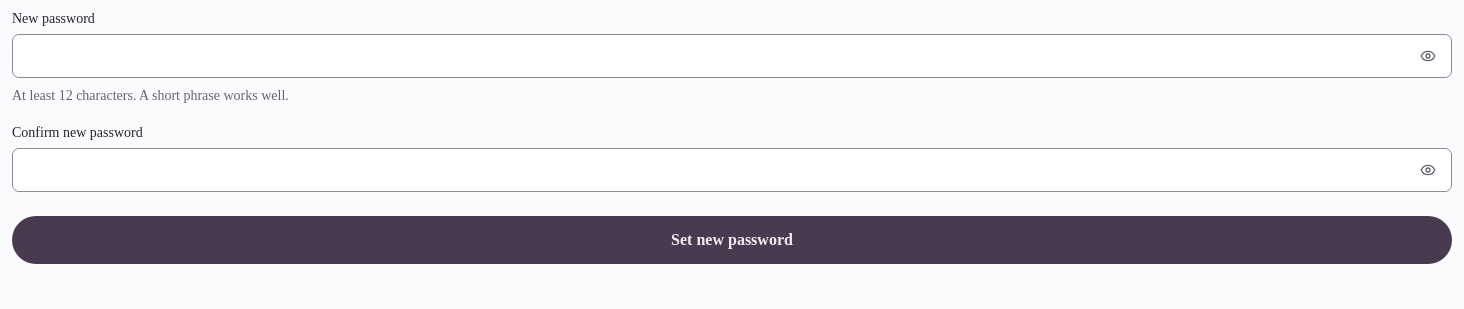
ResetPasswordForm › uses the registration rule and checks the confirmation locally
Step 1. Type "short" into the password field labelled "New password" → [732, 56], box x1=12 y1=34 x2=1452 y2=78
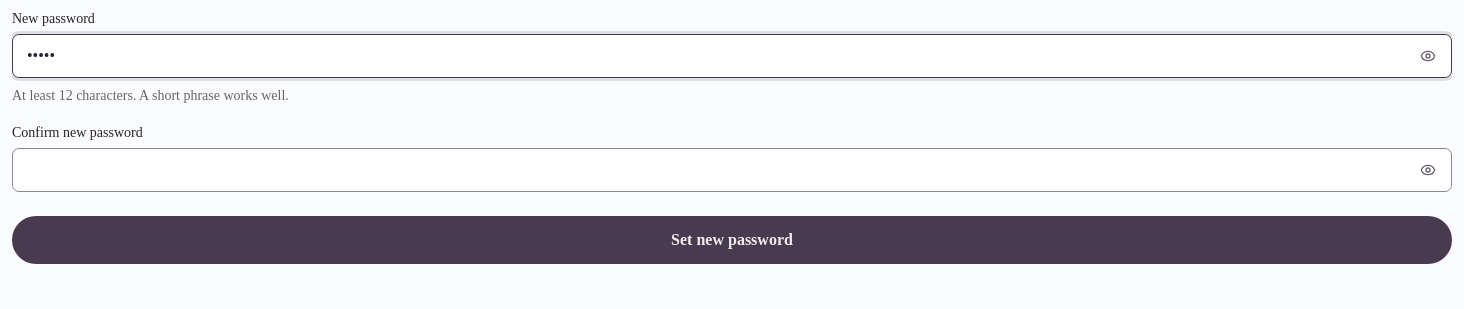
Step 2. Type "short" into the password field labelled "Confirm new password" → [732, 170], box x1=12 y1=148 x2=1452 y2=192
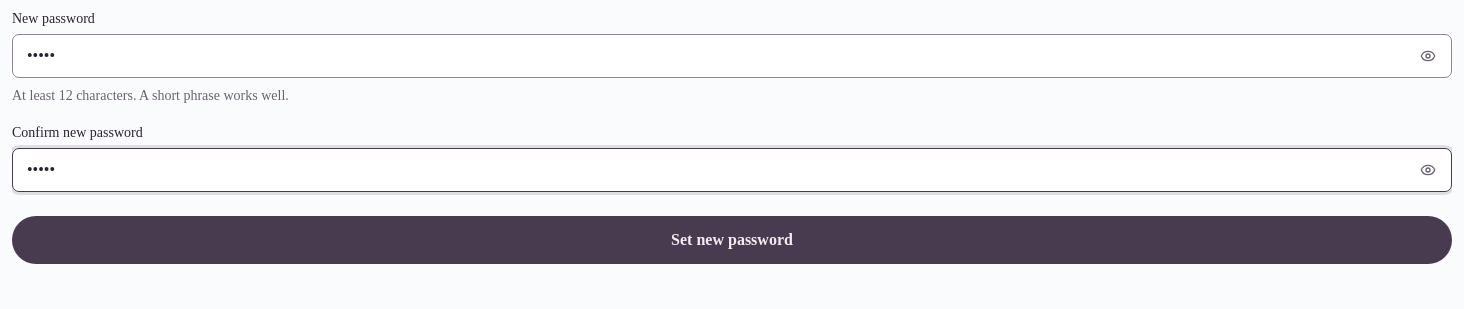
Step 3. Click the button "Set new password" → [732, 240], box x1=12 y1=216 x2=1452 y2=264
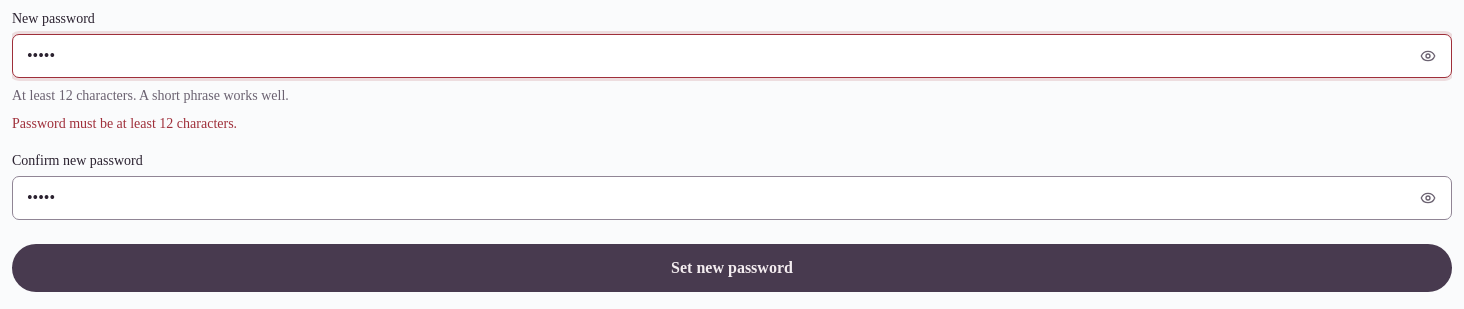
Result: the text "Password must be at least 12 characters." is shown at x1=12 y1=116 x2=237 y2=131
